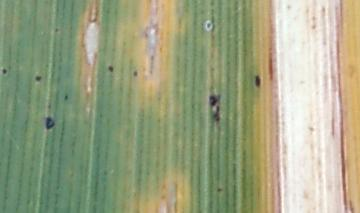tarspot: (211, 104, 222, 124), (208, 94, 223, 106), (44, 116, 55, 132), (253, 73, 261, 88), (33, 73, 42, 84), (204, 20, 212, 31), (107, 63, 115, 74), (1, 66, 9, 76), (62, 94, 70, 102), (215, 186, 223, 194), (307, 125, 315, 133), (132, 68, 138, 77), (285, 3, 291, 11), (53, 27, 60, 32)
